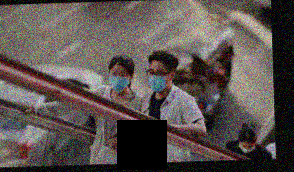with_mask: (147, 66, 171, 91), (108, 70, 131, 92), (238, 141, 256, 153)
